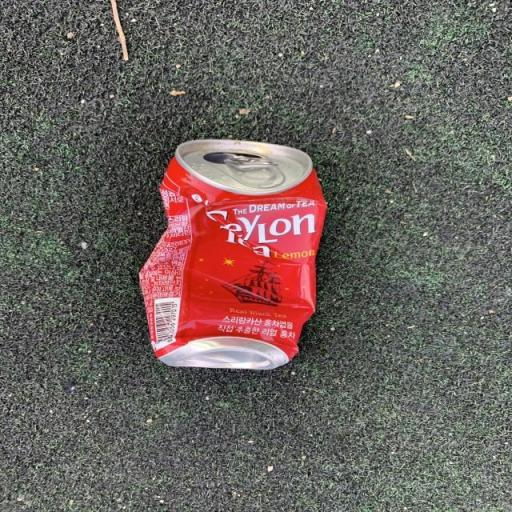metal: (116, 118, 336, 408)
